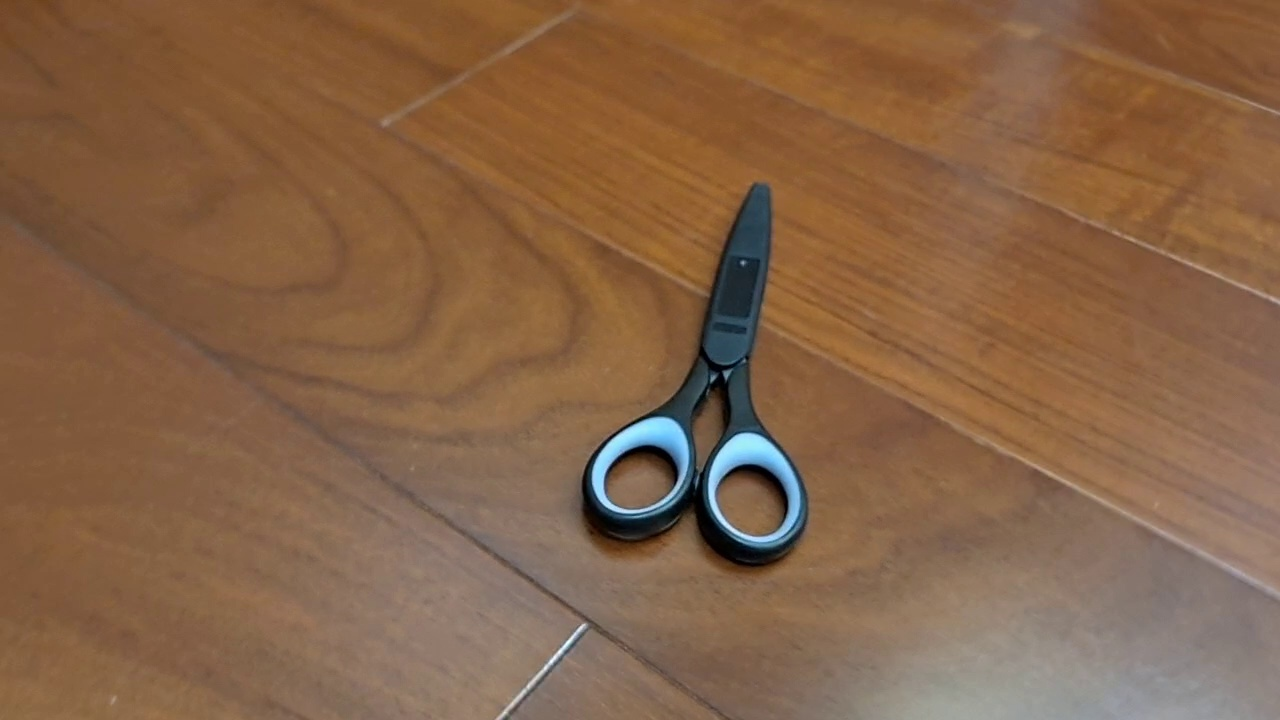scissors: (580, 180, 810, 568)
